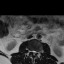CCS_normal: (33, 49, 35, 56)
LFS_severe_stenosis: (36, 49, 38, 54)
LLS_stenosis: (35, 49, 36, 54)
RFS_stenosis: (29, 48, 31, 53)
RLS_stenosis: (31, 48, 33, 54)
